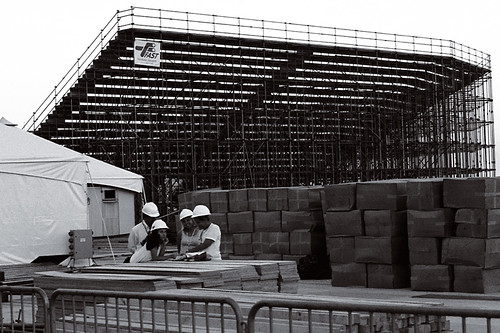person hardhat: (129, 200, 165, 260), (190, 204, 224, 264), (131, 222, 176, 258), (176, 207, 200, 258)
